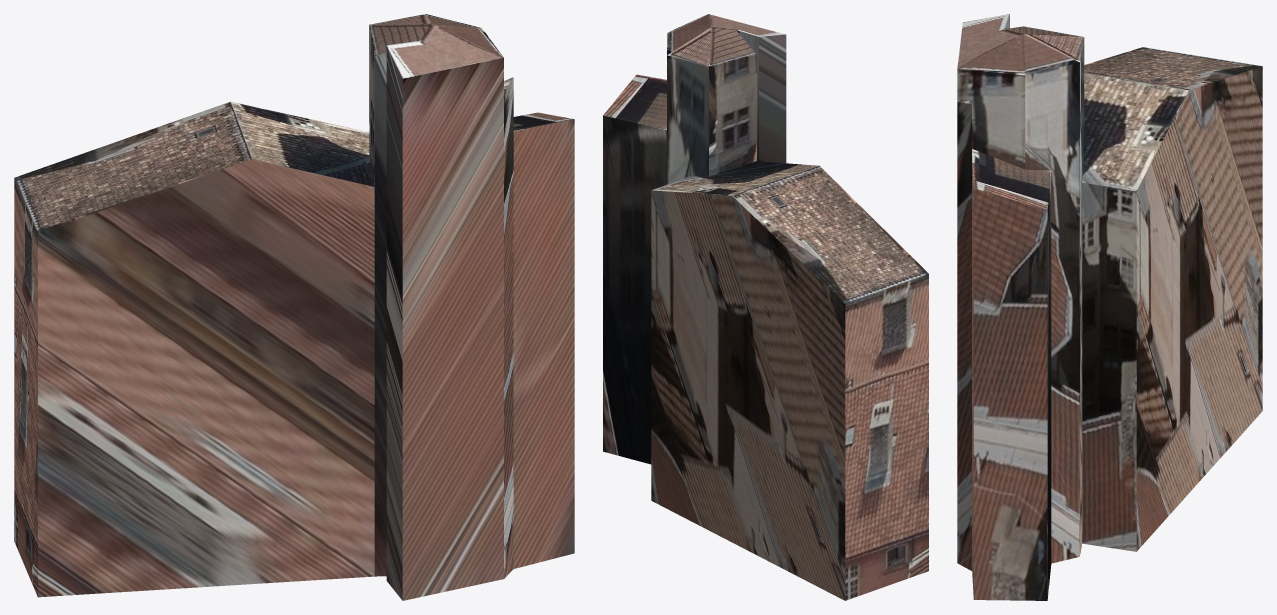
3 views of the same model, side by side, from view 1: azimuth 30°, elevation 25°; view 2: azimuth 150°, elevation 25°; view 3: azimuth 270°, elevation 25° (orthographic). The views are drawn at different scales.
Visible parts, largest first — view 1: Z_UP; view 2: Z_UP; view 3: Z_UP.
Boxes of the visible parts, left/top/right/bottom form: Z_UP: left=14, top=14, right=574, bottom=600; Z_UP: left=603, top=14, right=928, bottom=600; Z_UP: left=957, top=14, right=1262, bottom=600.
Size of the model in its own units: 21.23 by 24.33 by 13.16.
Materials: 2 (1 with a texture image).
